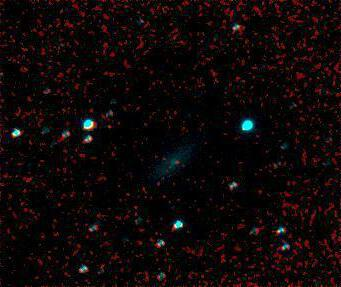star: (96, 110, 126, 140)
